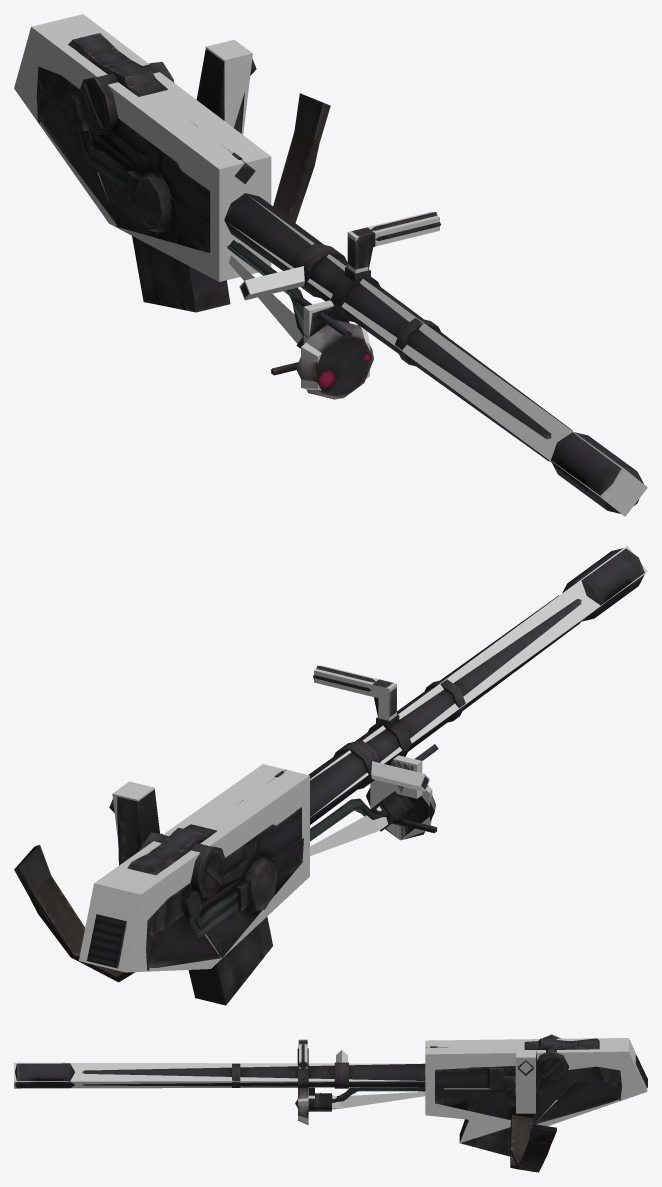
3 renders of one model, top to bottom at view 1: azimuth 30°, elevation 25°; view 2: azimuth 150°, elevation 25°; view 3: azimuth 270°, elevation 25°, orthographic. The views are drawn at different scales.
Parts seen in each view (by area): view 1: surface_000, surface_002, surface_003, surface_004; view 2: surface_000, surface_002, surface_003, surface_004, surface_001; view 3: surface_002, surface_000, surface_003, surface_004, surface_001.
Boxes of the visible parts, x1,y1,x2,y2 form: surface_000: [36, 33, 643, 513]; surface_002: [14, 14, 647, 516]; surface_003: [40, 49, 373, 375]; surface_004: [273, 93, 330, 222]; surface_000: [87, 548, 644, 1005]; surface_002: [79, 545, 647, 972]; surface_003: [117, 666, 436, 967]; surface_004: [14, 845, 84, 957]; surface_001: [14, 845, 134, 982]; surface_002: [14, 1038, 647, 1156]; surface_000: [15, 1034, 647, 1124]; surface_003: [295, 1046, 618, 1156]; surface_004: [510, 1115, 556, 1168]; surface_001: [510, 1122, 556, 1172].
Bounding box in the file's own units: 75.78 × 61.87 × 295.
